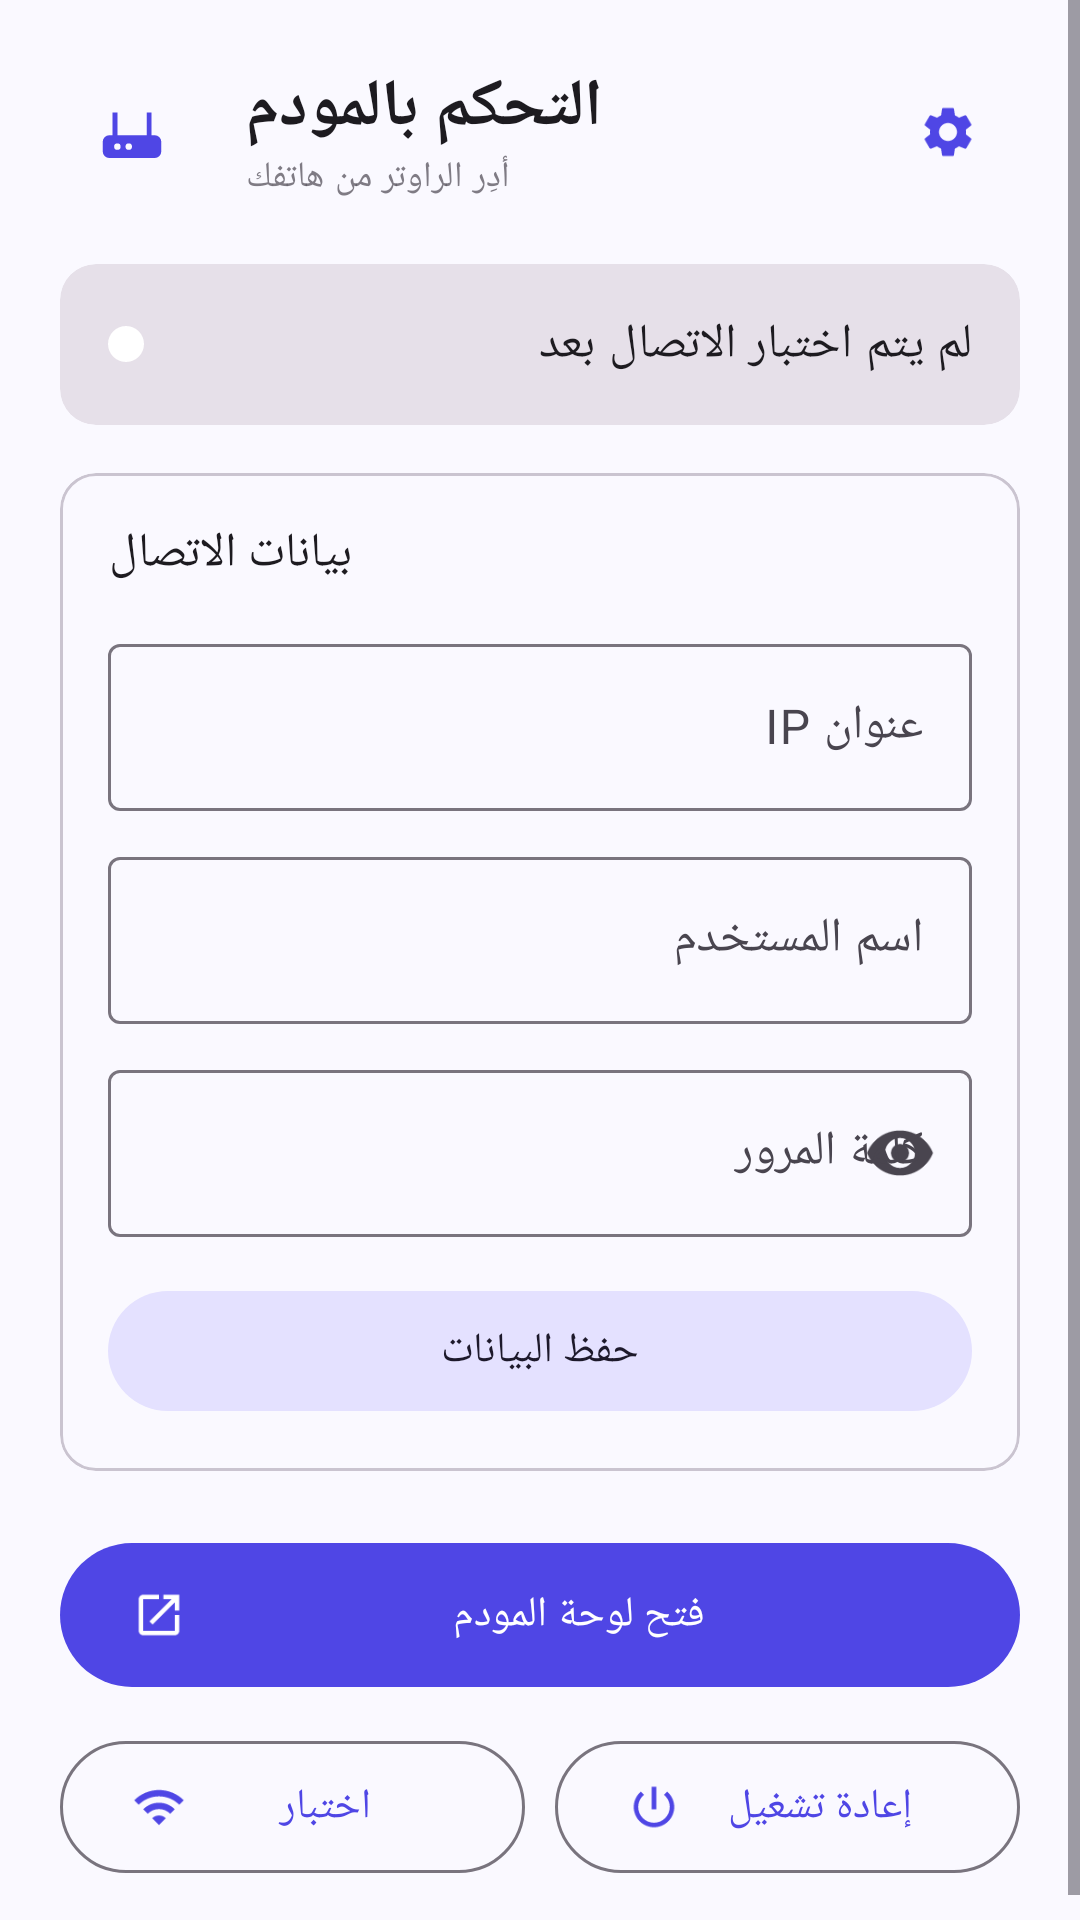

Where icons sit on this 1080px×1920px app screen, as bbox(x1, y1, x2, y2):
router: bbox(102, 112, 162, 158)
الإعدادات: bbox(924, 107, 972, 157)
